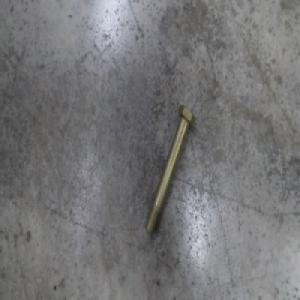Bolt: (144, 104, 196, 236)
